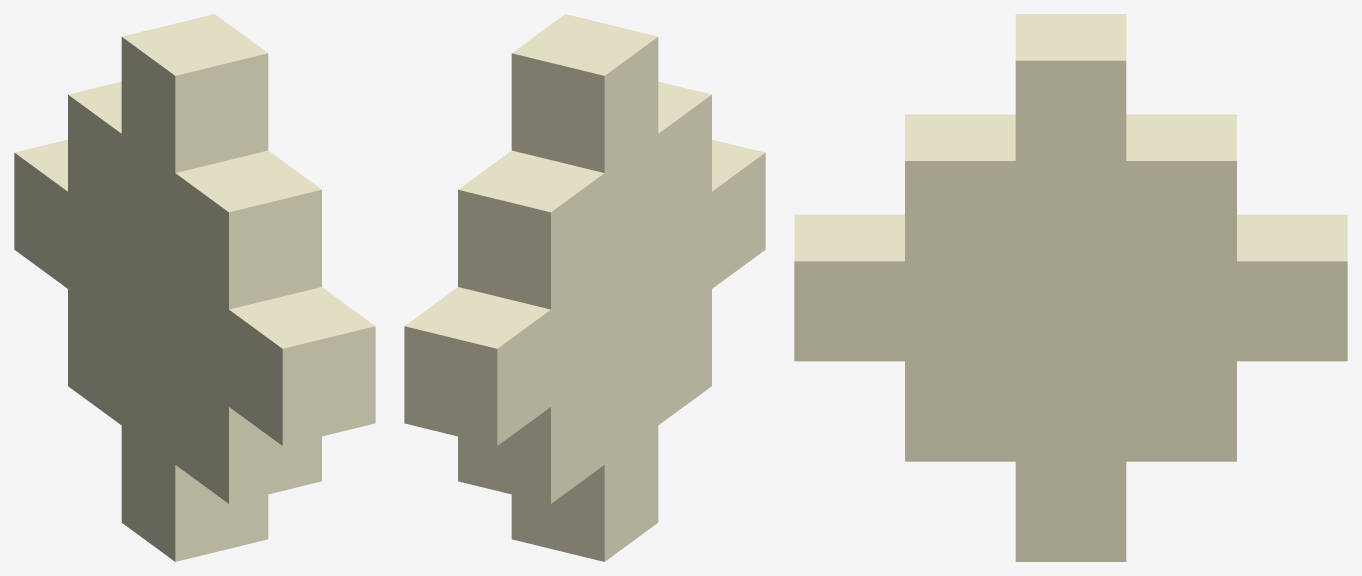
The model's file is estrelasflat-4.obj.
3 renders of one model, left to right at view 1: azimuth 30°, elevation 25°; view 2: azimuth 150°, elevation 25°; view 3: azimuth 270°, elevation 25°, orthographic. The views are drawn at different scales.
Size of the model in its own units: 0.1 by 0.5 by 0.5.
1 material, 1 textured.
